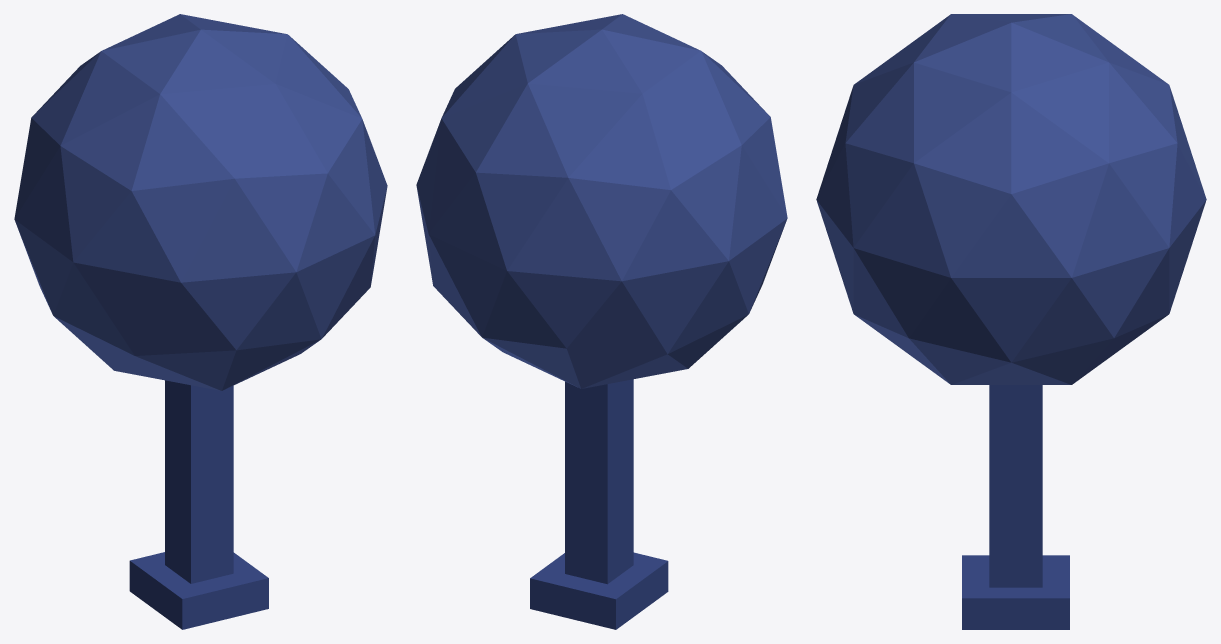
The model's file is SM_Prop_Tree_Round_01.fbx.
3 renders of one model, left to right at view 1: azimuth 30°, elevation 25°; view 2: azimuth 150°, elevation 25°; view 3: azimuth 270°, elevation 25°, orthographic. The views are drawn at different scales.
Parts seen in each view (by area): view 1: SM_Prop_Tree_Round_01; view 2: SM_Prop_Tree_Round_01; view 3: SM_Prop_Tree_Round_01.
Part boxes in pixels (box(x1,y1,x2,y2)): SM_Prop_Tree_Round_01: box(14, 14, 387, 629); SM_Prop_Tree_Round_01: box(416, 14, 787, 629); SM_Prop_Tree_Round_01: box(816, 14, 1206, 629).
Size of the model in its own units: 137 by 238 by 144.
